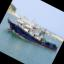fishing boat: (11, 14, 64, 55)
